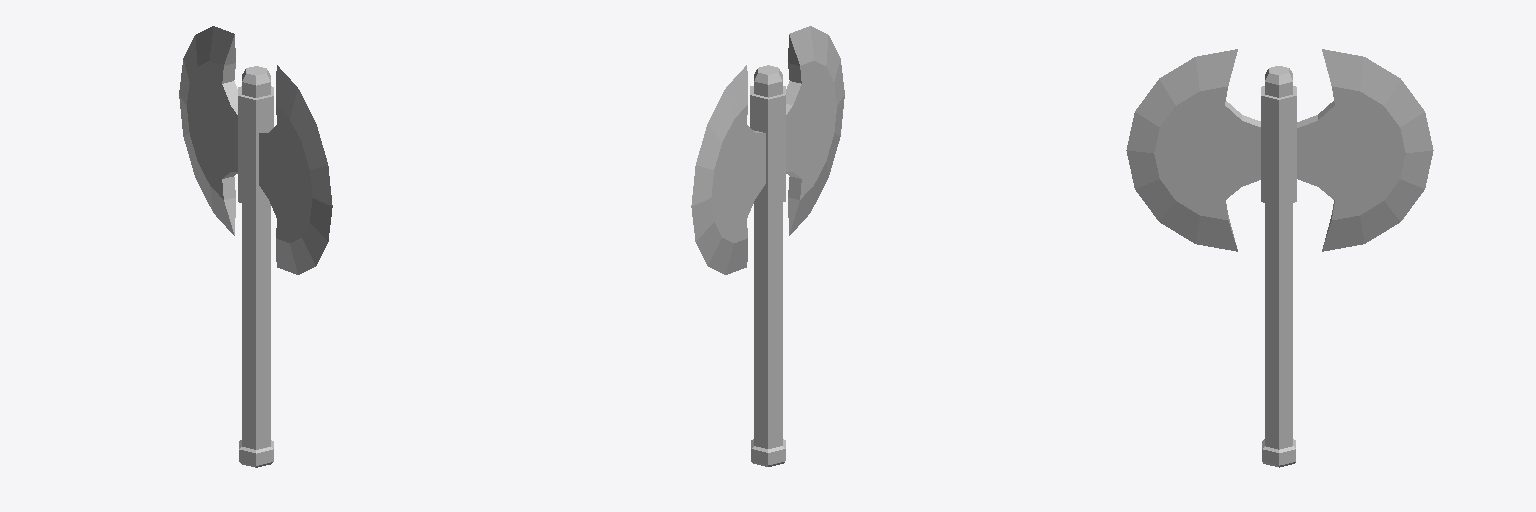
File: DwarfAxe.obj
The picture shows the model from 3 angles: view 1: azimuth 30°, elevation 25°; view 2: azimuth 150°, elevation 25°; view 3: azimuth 270°, elevation 25°; orthographic projection.
Visible parts, largest first — view 1: MeshMesh; view 2: MeshMesh; view 3: MeshMesh.
Boxes of the visible parts, x1,y1,x2,y2 form: MeshMesh: [179, 26, 332, 467]; MeshMesh: [691, 26, 844, 466]; MeshMesh: [1126, 49, 1433, 467].
Size of the model in its own units: 0.3641 by 4 by 2.69.